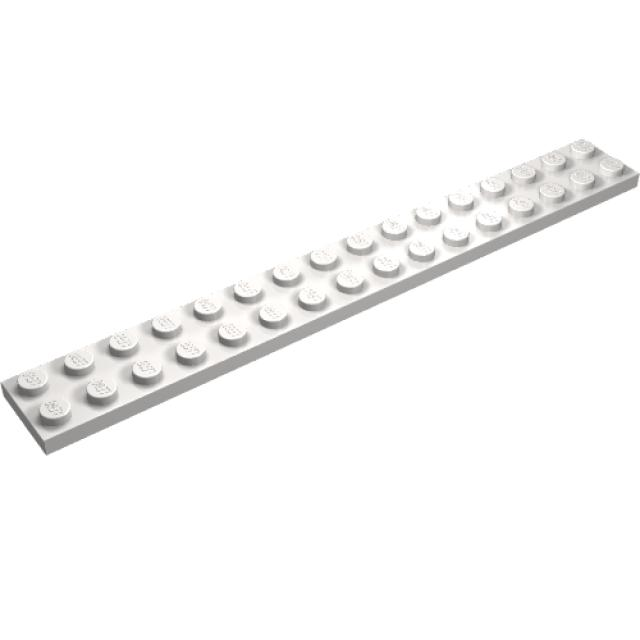White_Large: (0, 137, 640, 458)
